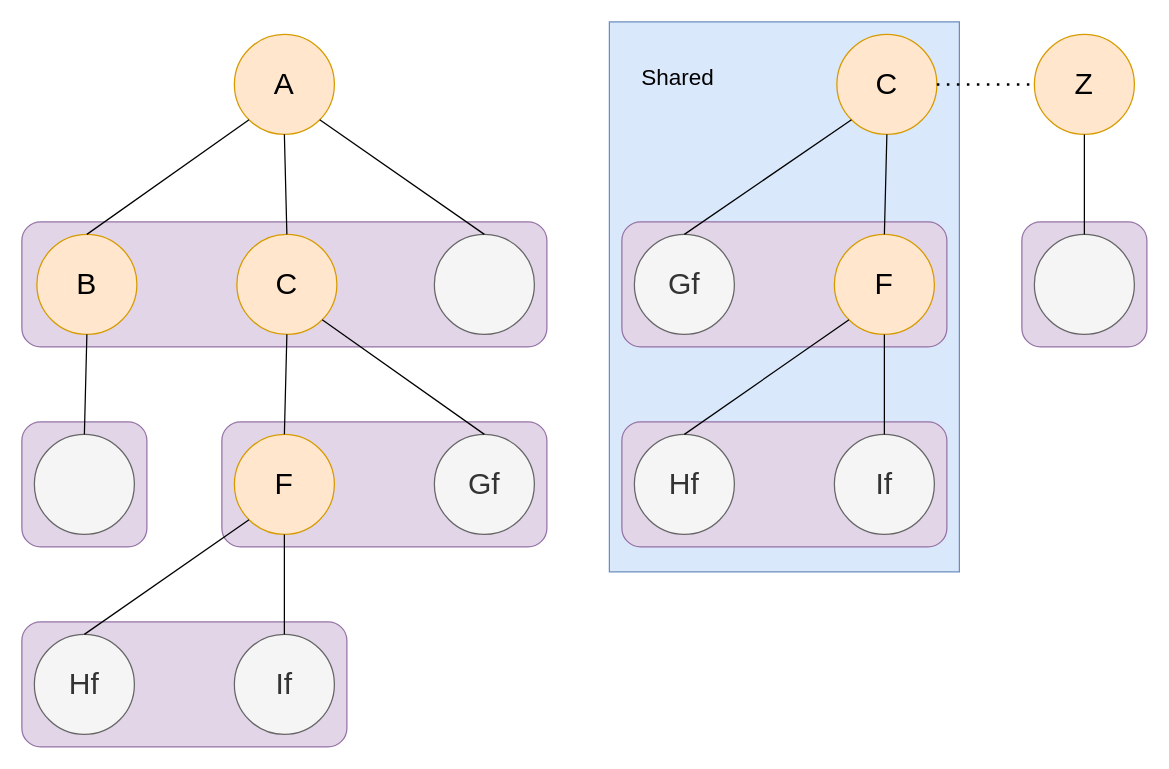
Some shapes in this 1169 by 769 pixel diagram are drawn without their labels. The shapes that lost their labels are listed below. From the top down, each one's centre as x and y in pixels, then its label:
At point (483, 283): "Df".
At point (1083, 283): "Yf".
At point (83, 483): "Ef".
